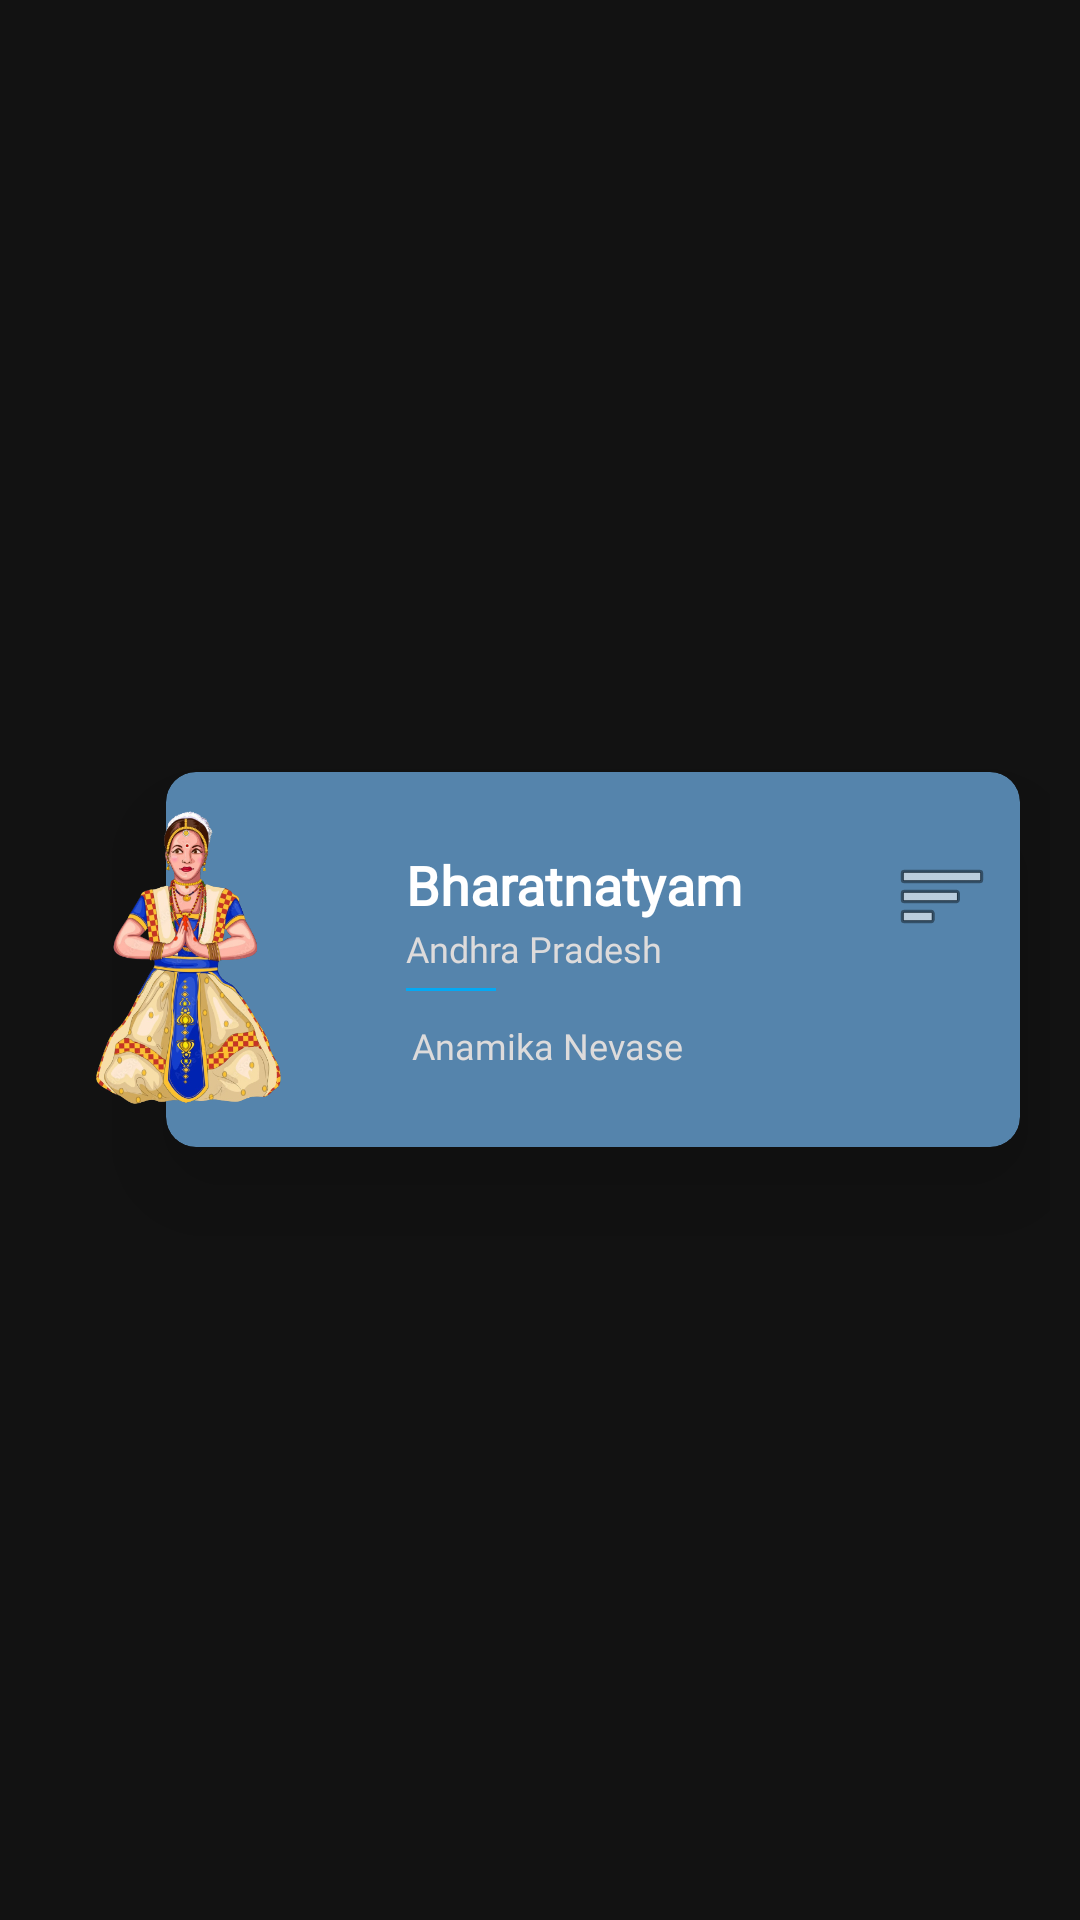

Point at icon controls on the screen. Image size 1080x1920, points as [x,y].
sort by size: [942,896]
